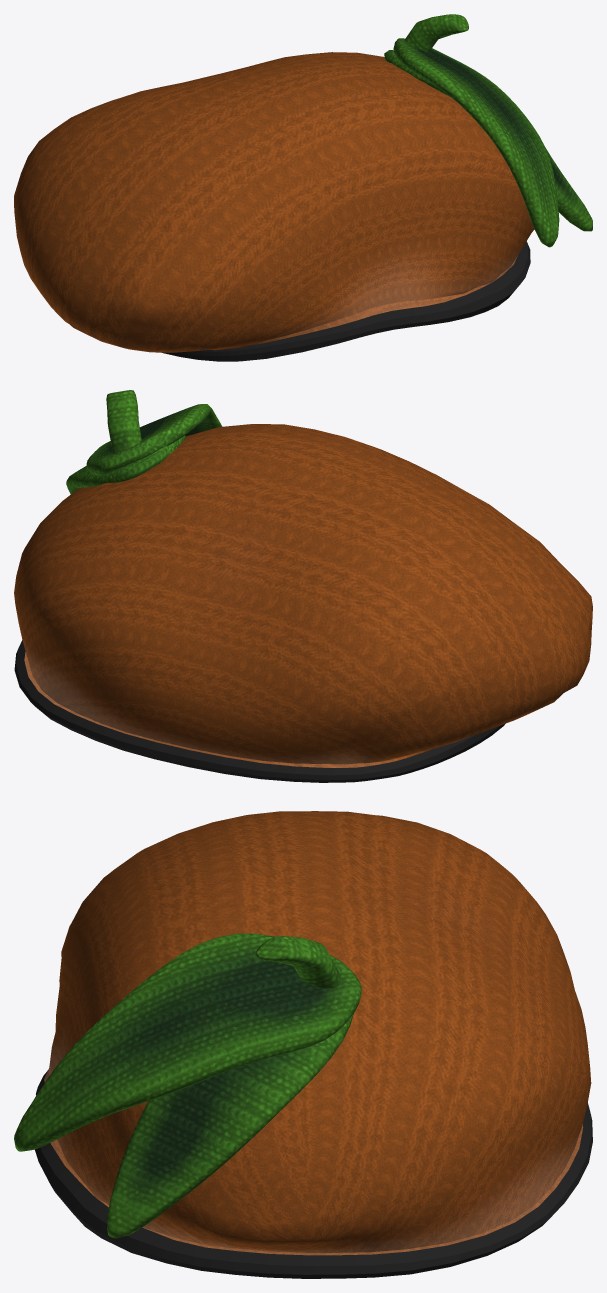
File: Orange_Berret.glb
The picture shows the model from 3 angles, top to bottom: view 1: azimuth 30°, elevation 25°; view 2: azimuth 150°, elevation 25°; view 3: azimuth 270°, elevation 25°; orthographic projection. The views are drawn at different scales.
Parts seen in each view (by area): view 1: Orange_Berret; view 2: Orange_Berret; view 3: Orange_Berret.
Boxes of the visible parts, x1,y1,x2,y2 form: Orange_Berret: (14, 14, 592, 361); Orange_Berret: (14, 390, 592, 782); Orange_Berret: (14, 811, 592, 1278).
Bounding box in the file's own units: 1.08 × 0.4882 × 0.8347.
3 materials, 3 textured.
